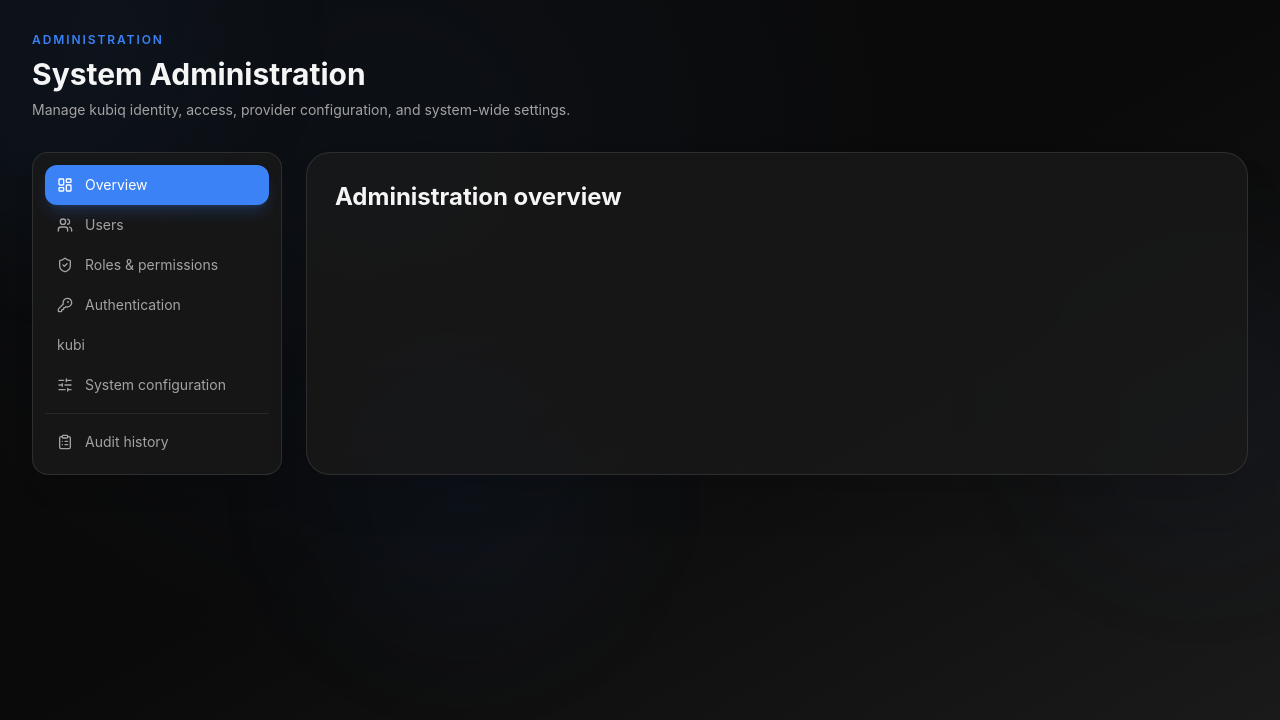
Test: system administration compatibility › loads the existing monitored disk array without silently clearing it
Click the button "System configuration".
click(157, 385)  # box [45,365,269,405]
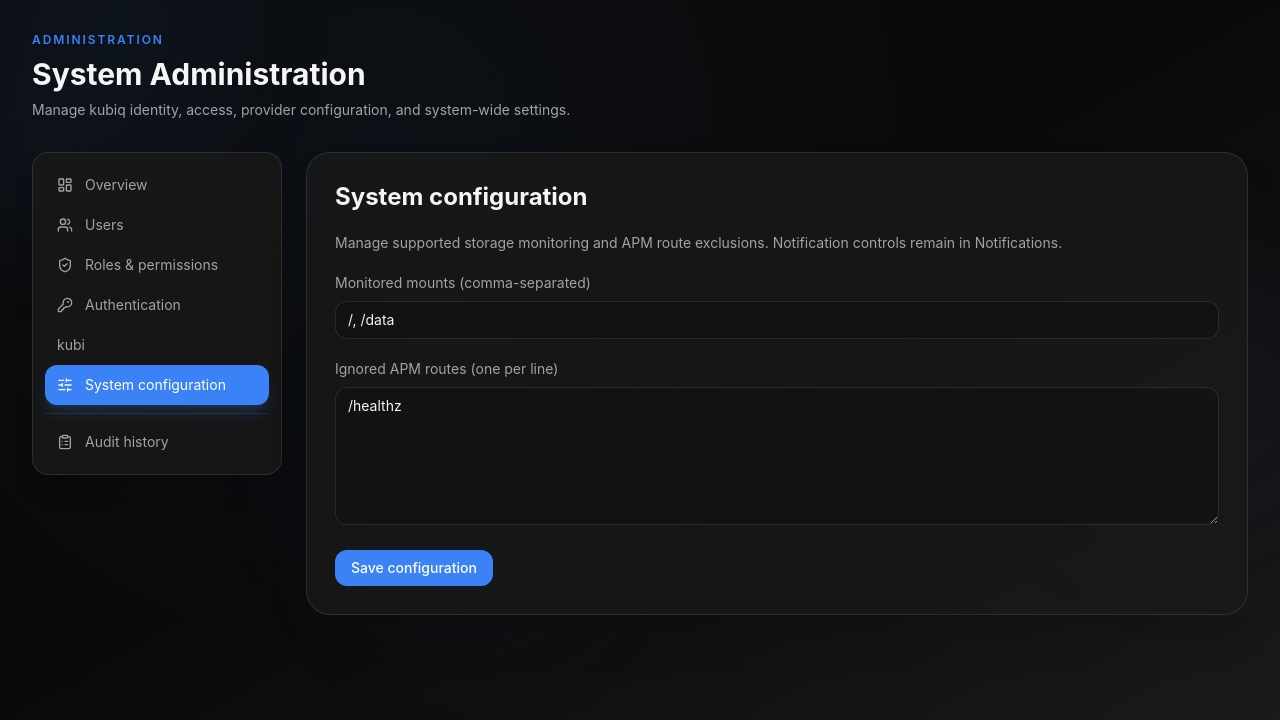
Now the field labelled "Monitored mounts (comma-separated)" holds "/, /data", box [335,301,1219,339]
Now the text box labelled "Ignored APM routes (one per line)" holds "/healthz", box [335,387,1219,525]
